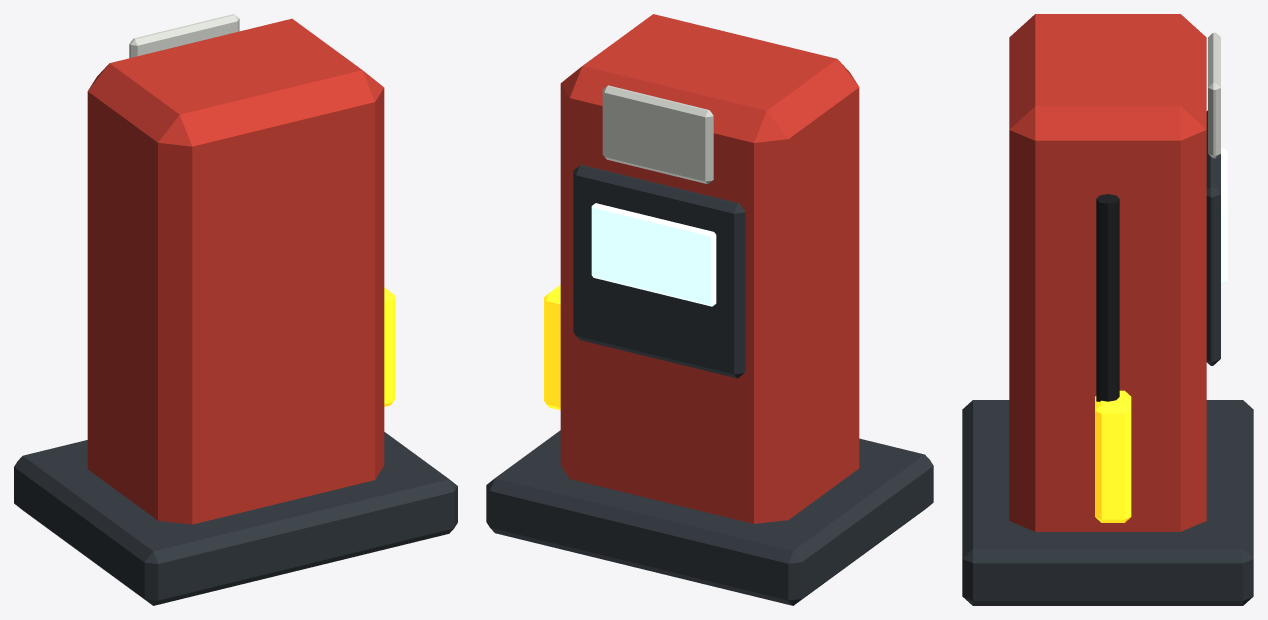
Rendered from pump.glb.
3 renders of one model, left to right at view 1: azimuth 30°, elevation 25°; view 2: azimuth 150°, elevation 25°; view 3: azimuth 270°, elevation 25°, orthographic. The views are drawn at different scales.
Visible parts, largest first — view 1: PumpBody, PumpBase, Number, Nozzle; view 2: PumpBody, PumpBase, PumpFace, Display, Number, Nozzle; view 3: PumpBody, PumpBase, Hose, Nozzle, PumpFace, Number, Display.
Boxes of the visible parts, left/top/right/bottom form: PumpBody: left=87, top=18, right=384, bottom=524; PumpBase: left=14, top=432, right=457, bottom=605; Number: left=129, top=14, right=239, bottom=58; Nozzle: left=384, top=287, right=395, bottom=406; PumpBody: left=560, top=14, right=859, bottom=523; PumpBase: left=486, top=430, right=933, bottom=605; PumpFace: left=573, top=164, right=745, bottom=378; Display: left=591, top=203, right=716, bottom=306; Number: left=602, top=85, right=713, bottom=184; Nozzle: left=544, top=285, right=560, bottom=410; PumpBody: left=1009, top=14, right=1206, bottom=531; PumpBase: left=962, top=400, right=1253, bottom=605; Hose: left=1096, top=194, right=1119, bottom=401; Nozzle: left=1095, top=390, right=1131, bottom=522; PumpFace: left=1206, top=110, right=1220, bottom=365; Number: left=1208, top=32, right=1220, bottom=158; Display: left=1221, top=148, right=1227, bottom=282.
Size of the model in its own units: 1.44 by 2.01 by 1.12.
